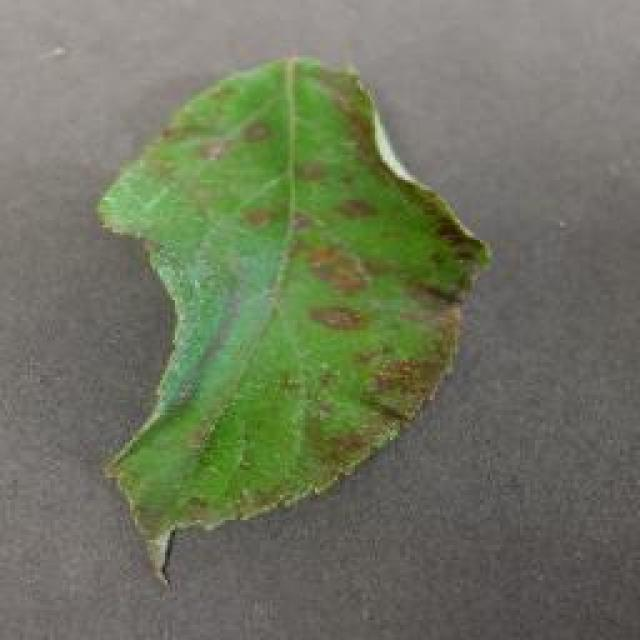apple cedar apple rust: (95, 53, 493, 585)
